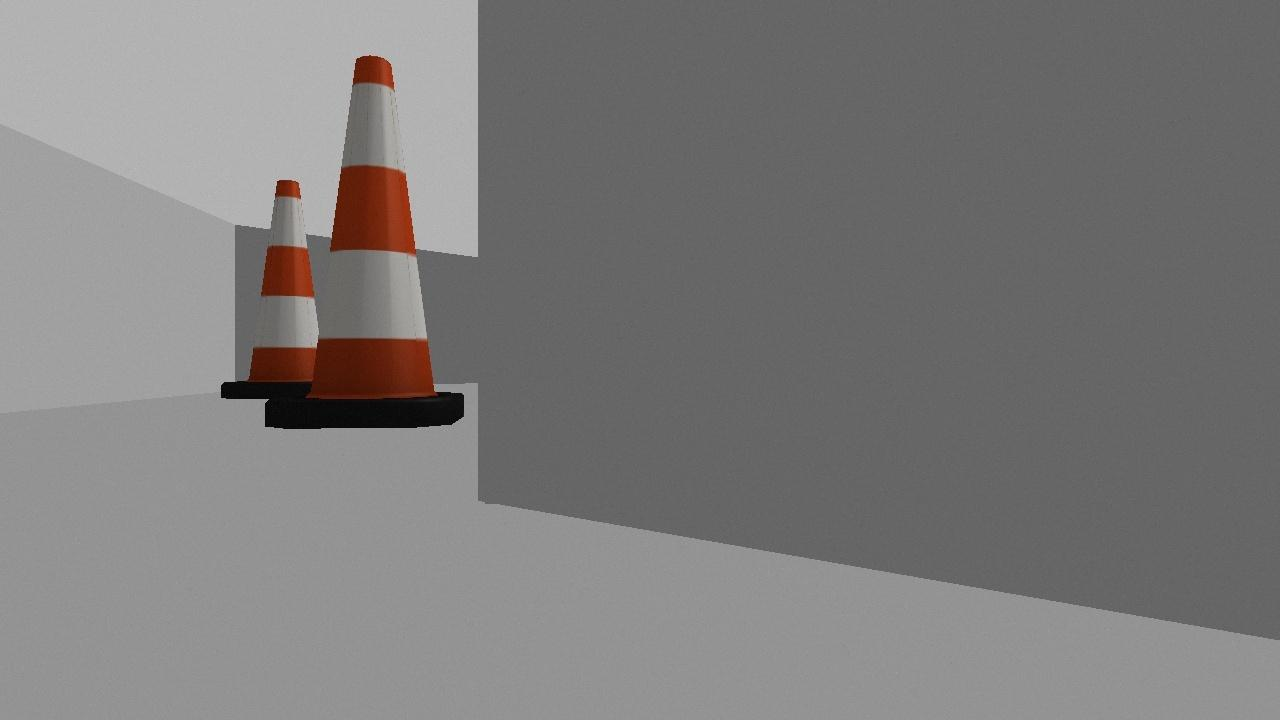cone_barrel: (255, 50, 472, 439), (213, 177, 351, 397)
